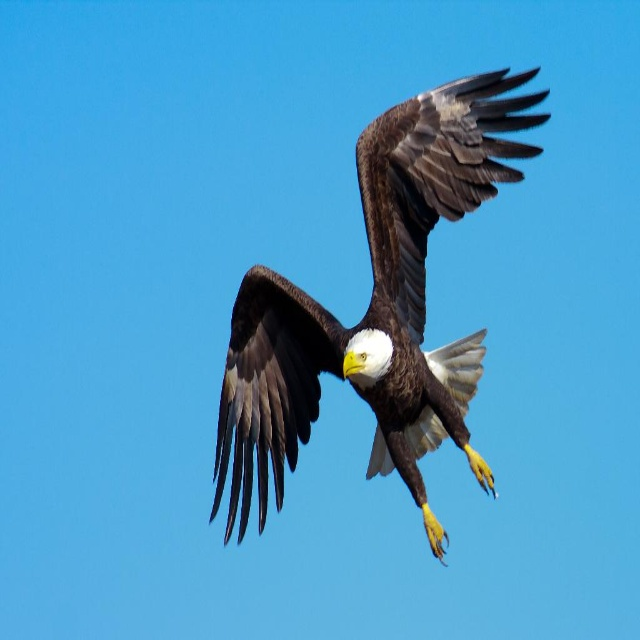Eagle: (203, 56, 556, 570)
